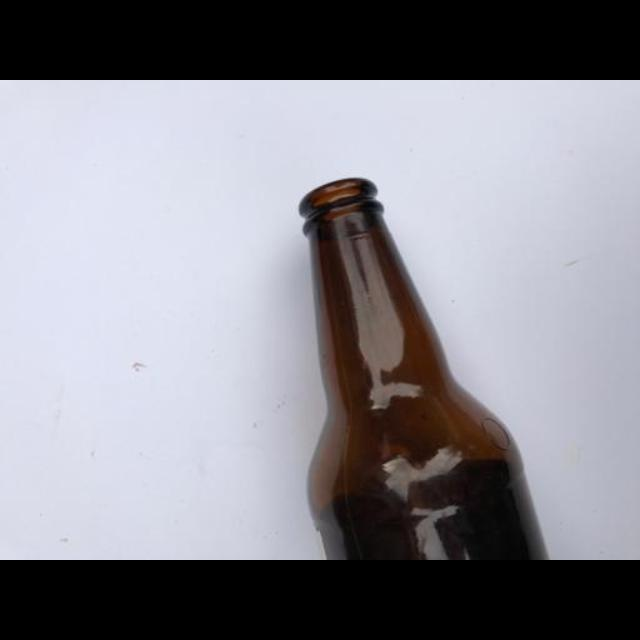garrafa de vidro: (297, 176, 548, 560)
